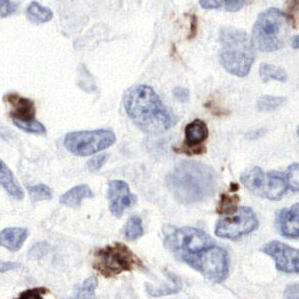Lymphocyte: (182, 118, 209, 150)
